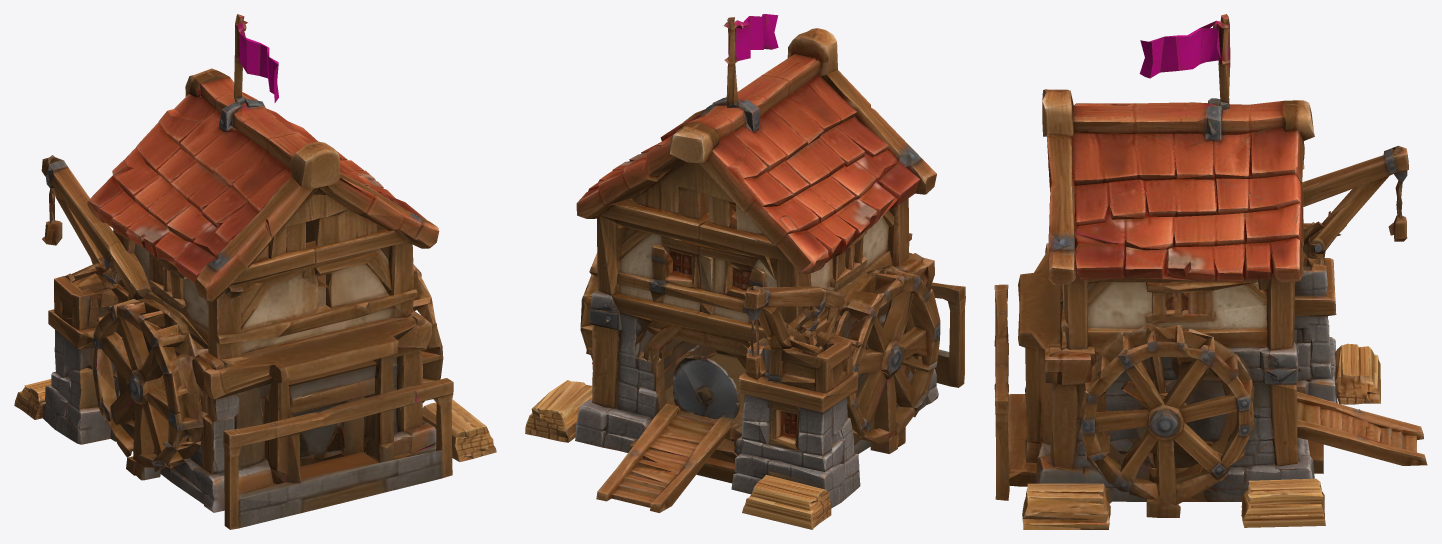
The model's file is sawmill2.glb.
3 renders of one model, left to right at view 1: azimuth 30°, elevation 25°; view 2: azimuth 150°, elevation 25°; view 3: azimuth 270°, elevation 25°, orthographic. The views are drawn at different scales.
Parts seen in each view (by area): view 1: Mesh_0; view 2: Mesh_0; view 3: Mesh_0.
Part boxes in pixels (bbox=[...]): Mesh_0: bbox=[14, 14, 496, 529]; Mesh_0: bbox=[525, 14, 965, 529]; Mesh_0: bbox=[994, 14, 1427, 529].
Size of the model in its own units: 1.52 by 1.9 by 1.72.
Materials: 1 (1 with a texture image).
